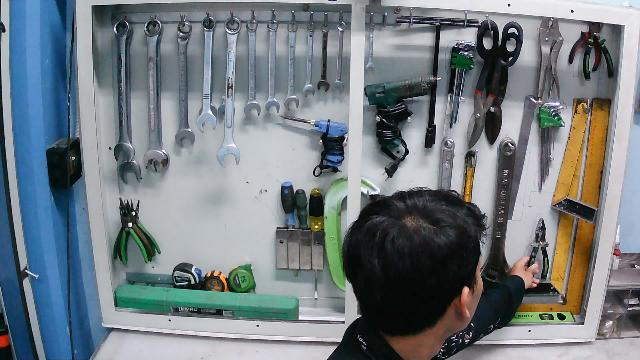tang_kombinasi: (517, 213, 553, 282)
